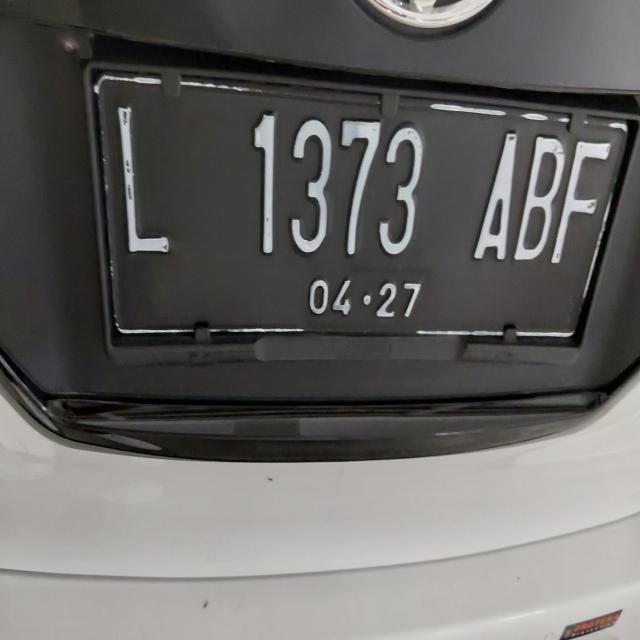1: (235, 100, 282, 284)
3: (280, 103, 336, 273), (377, 117, 423, 263)
7: (331, 107, 382, 269)
A: (470, 110, 517, 280)
B: (514, 114, 566, 287)
F: (549, 118, 611, 300)
L: (104, 77, 180, 280)
